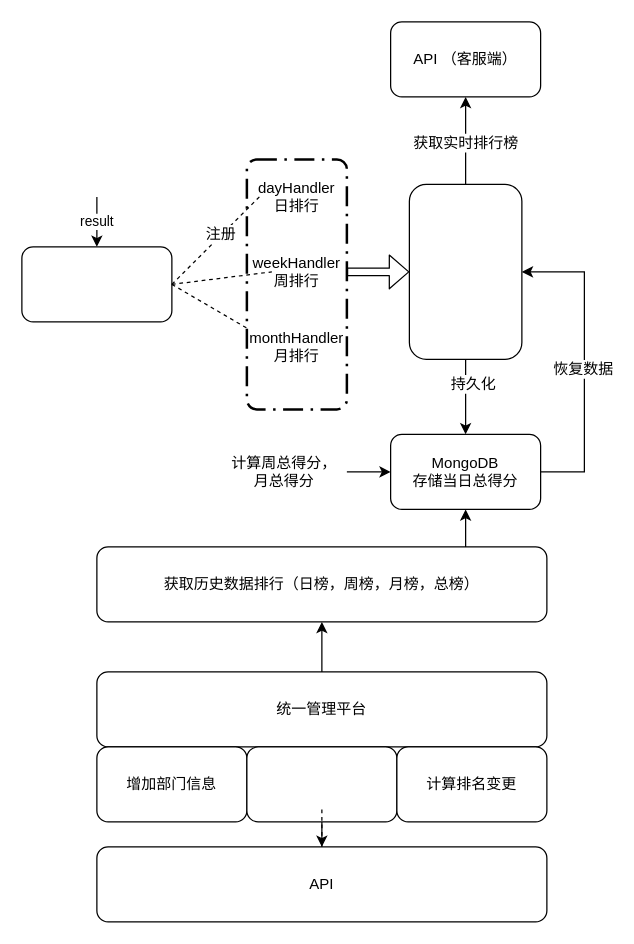
Image size: 634x944. Some labels were removed from this diagram. The shapes that lost their labels are listed below. From the top down, each one's box as (x1, y1, x2, y2) in pixels, then its label:
(21, 246, 172, 322): result handlers
(408, 183, 522, 359): redis zset [info, score] 用zset存储员工信息和得分
(246, 746, 397, 822): 处理无得分员工
